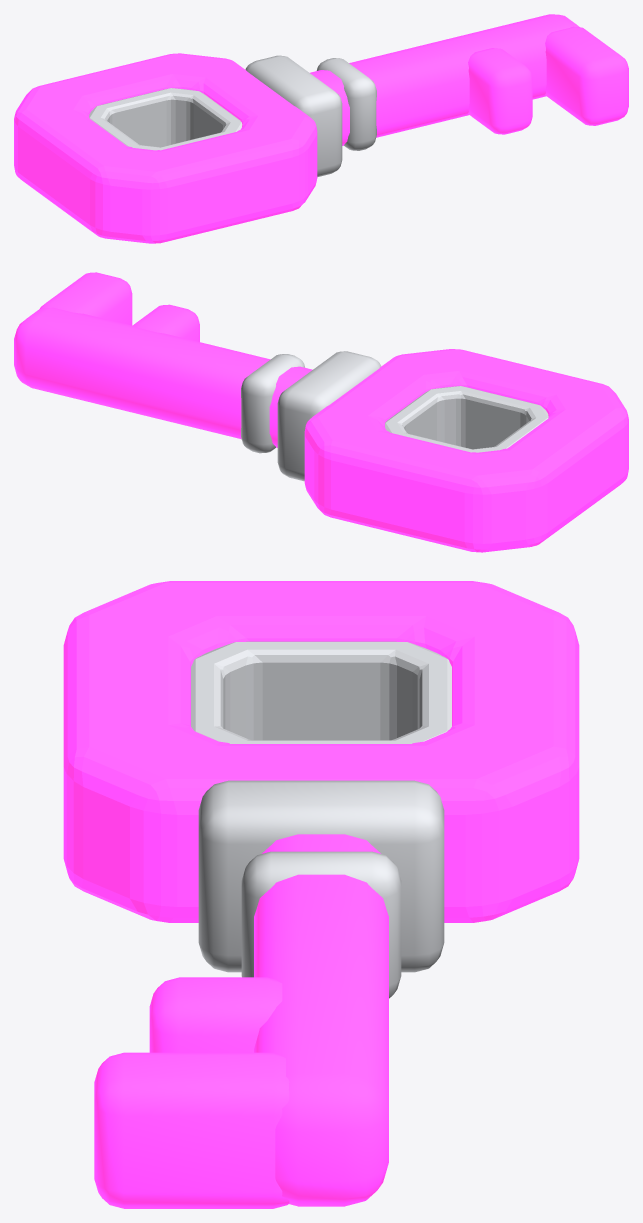
The model's file is key.glb.
3 views of the same model, one above another, from view 1: azimuth 30°, elevation 25°; view 2: azimuth 150°, elevation 25°; view 3: azimuth 270°, elevation 25° (orthographic). The views are drawn at different scales.
Parts seen in each view (by area): view 1: key; view 2: key; view 3: key.
Boxes of the visible parts, <box> form: key: <box>14,14,628,243</box>; key: <box>14,272,628,552</box>; key: <box>63,581,579,1208</box>.
Size of the model in its own units: 0.5692 by 0.0851 by 0.2415.
